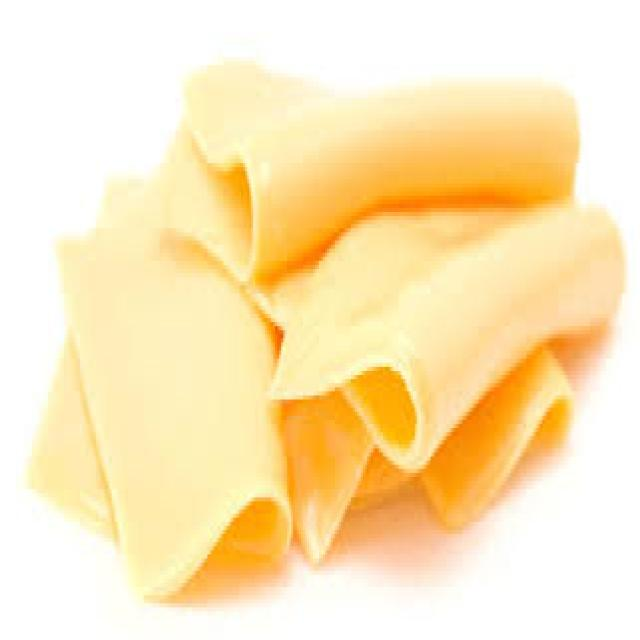cheese: (34, 53, 628, 604)
